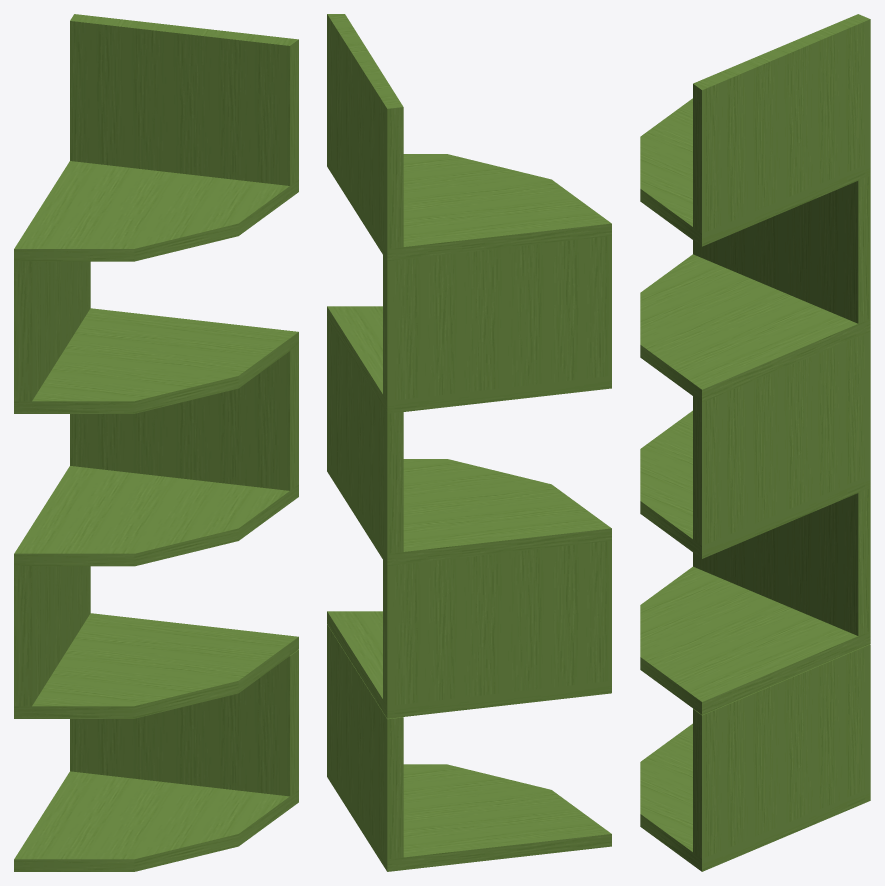
The model's file is Corner_Shelving_06.FBX.
The picture shows the model from 3 angles, left to right: view 1: azimuth 30°, elevation 25°; view 2: azimuth 150°, elevation 25°; view 3: azimuth 270°, elevation 25°; orthographic projection. The views are drawn at different scales.
Parts seen in each view (by area): view 1: Corner_Shelving; view 2: Corner_Shelving; view 3: Corner_Shelving.
Part boxes in pixels (left/top/right/bottom): Corner_Shelving: left=14, top=14, right=298, bottom=871; Corner_Shelving: left=327, top=14, right=611, bottom=871; Corner_Shelving: left=640, top=14, right=870, bottom=871.
Bounding box in the file's own units: 141 × 362 × 96.59.
